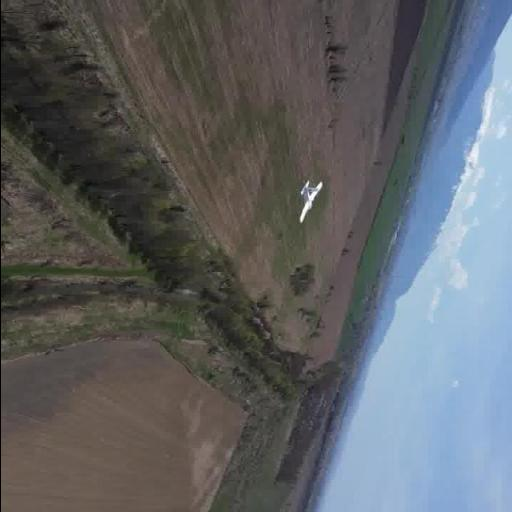uav: (290, 180, 326, 228)
